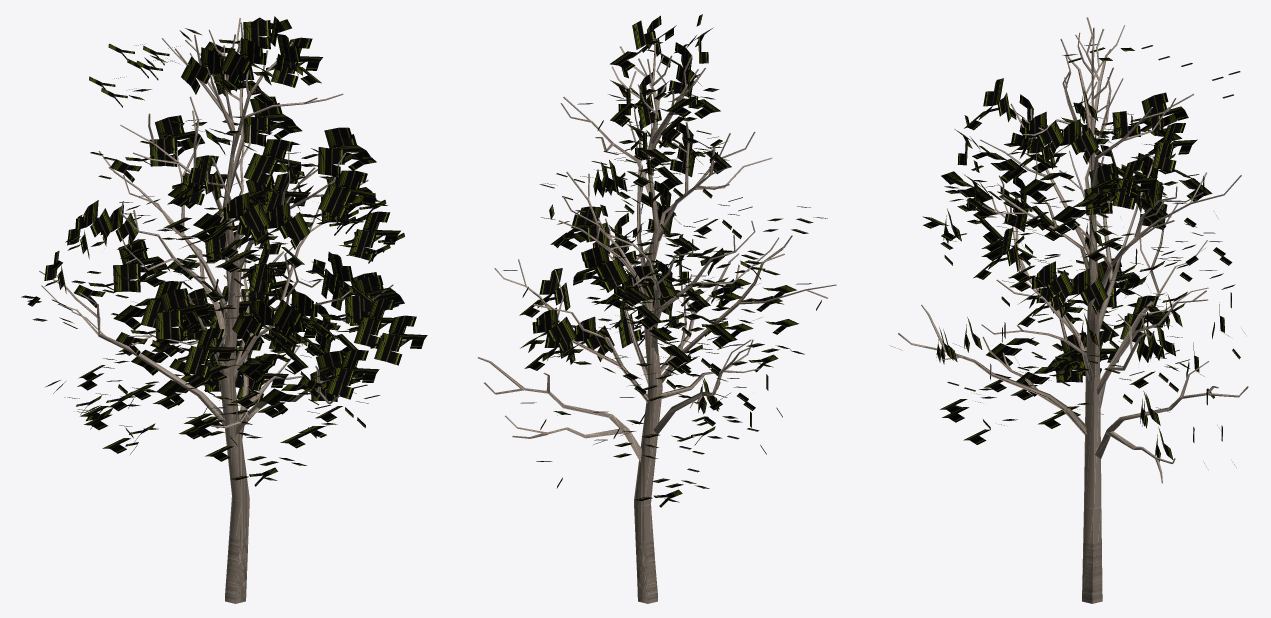
Rendered from tree-my.glb.
The picture shows the model from 3 angles, left to right: view 1: azimuth 30°, elevation 25°; view 2: azimuth 150°, elevation 25°; view 3: azimuth 270°, elevation 25°; orthographic projection. The views are drawn at different scales.
Visible parts, largest first — view 1: Leaf Oak, Leaf Oak2, Wood - Bark; view 2: Leaf Oak, Wood - Bark, Leaf Oak2; view 3: Leaf Oak, Wood - Bark, Leaf Oak2.
Boxes of the visible parts, <box> form: Leaf Oak: <box>21,16,416,486</box>; Leaf Oak2: <box>44,27,427,465</box>; Wood - Bark: <box>39,18,393,603</box>; Leaf Oak: <box>519,14,827,507</box>; Wood - Bark: <box>478,38,836,603</box>; Leaf Oak2: <box>503,15,811,487</box>; Leaf Oak: <box>890,44,1244,468</box>; Wood - Bark: <box>898,17,1248,603</box>; Leaf Oak2: <box>942,63,1232,442</box>.
Size of the model in its own units: 5.87 by 9.35 by 5.64.
3 materials, 3 textured.
